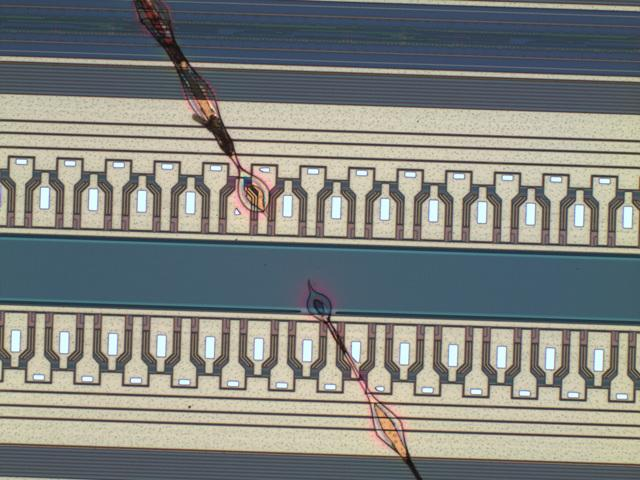SCRATCH: (132, 1, 431, 480)
